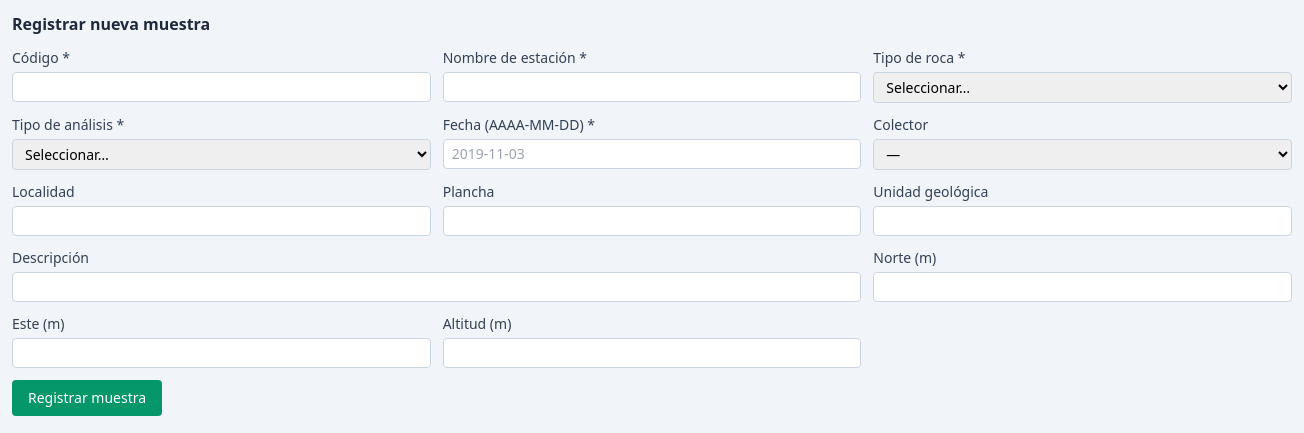
Test: RegistrationForm › submits the payload and reports success
Type "ZZX9999" into the field labelled "Código *". click: (221, 87)
box: x1=12 y1=72 x2=431 y2=102
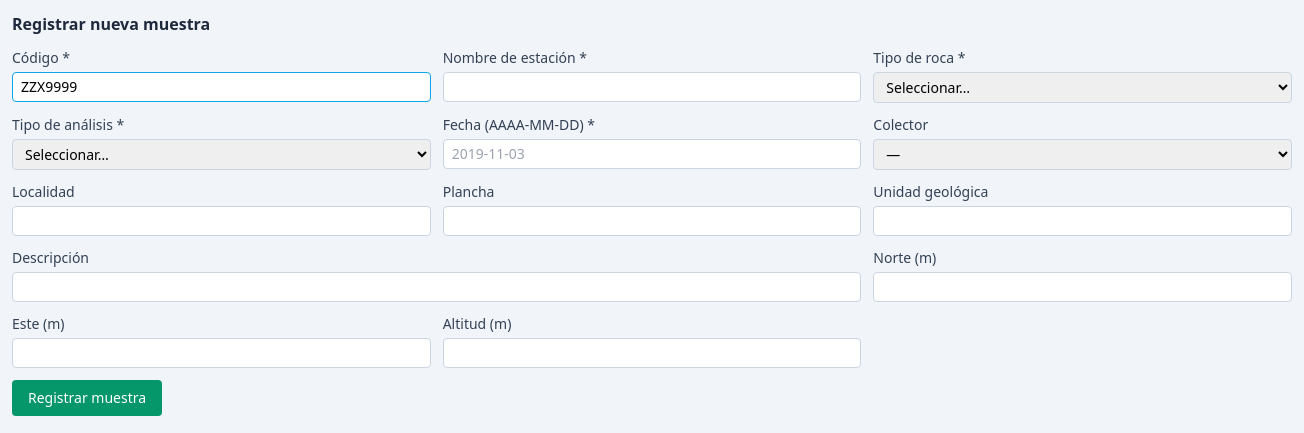
Type "Estacion Nueva" into the field labelled "Nombre de estación *". click: (652, 87)
box: x1=443 y1=72 x2=861 y2=102
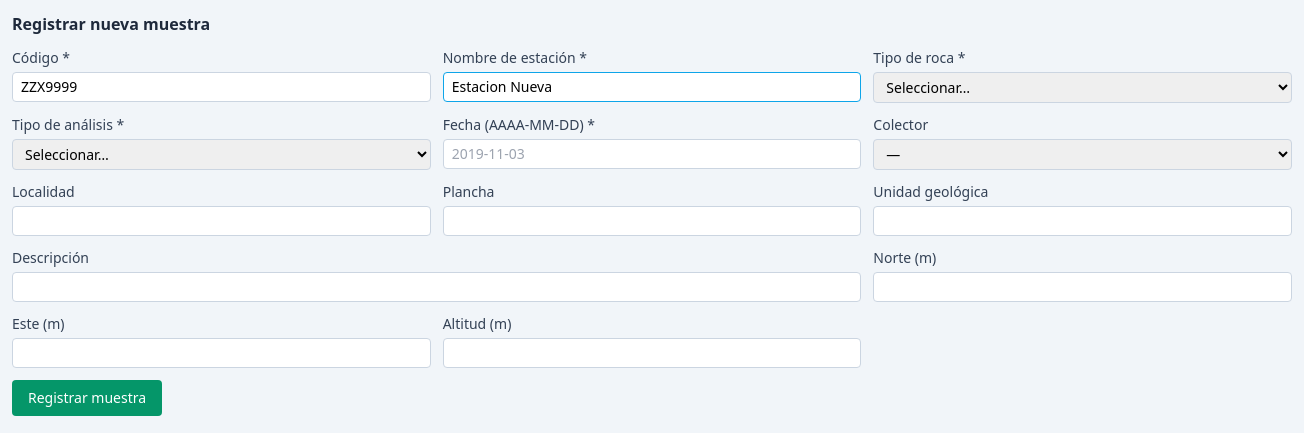
Select "Granito" in the dropdown labelled "Tipo de roca *". click: (1083, 88)
box: x1=873 y1=72 x2=1292 y2=103
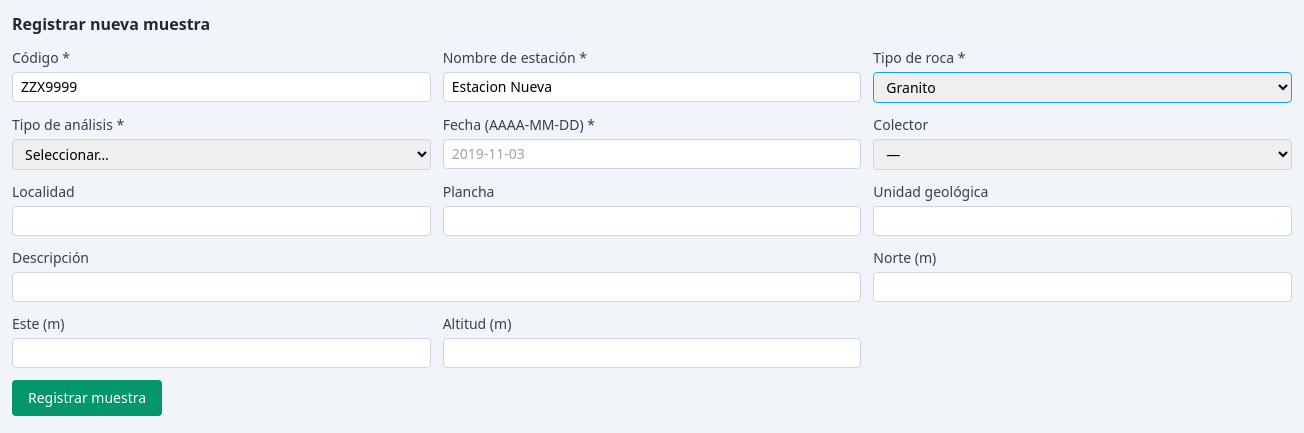
Select "Seccion Delgada" in the dropdown labelled "Tipo de análisis *". click: (221, 154)
box: x1=12 y1=139 x2=431 y2=170
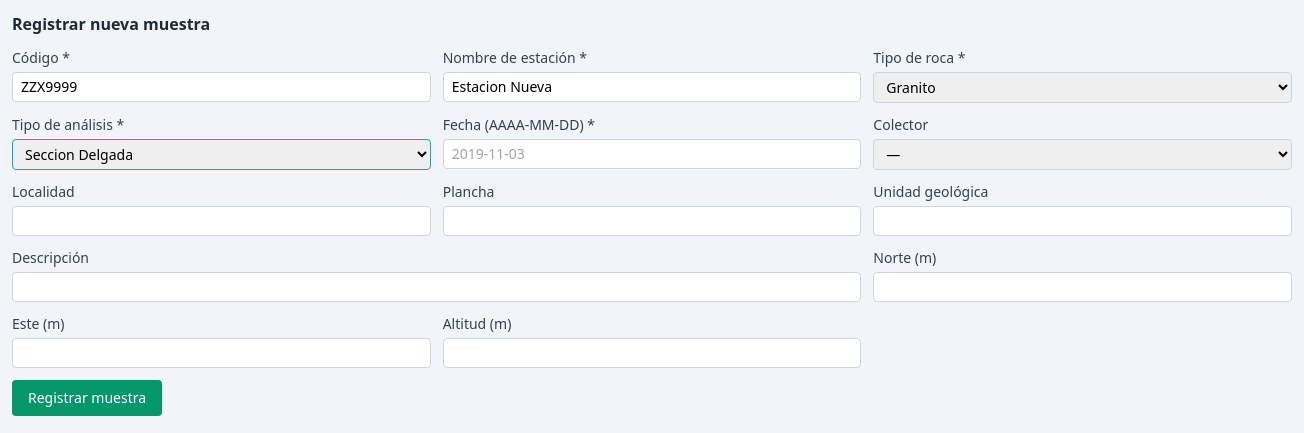
Type "2024-05-01" into the field labelled "Fecha (AAAA-MM-DD) *". click: (652, 154)
box: x1=443 y1=139 x2=861 y2=169
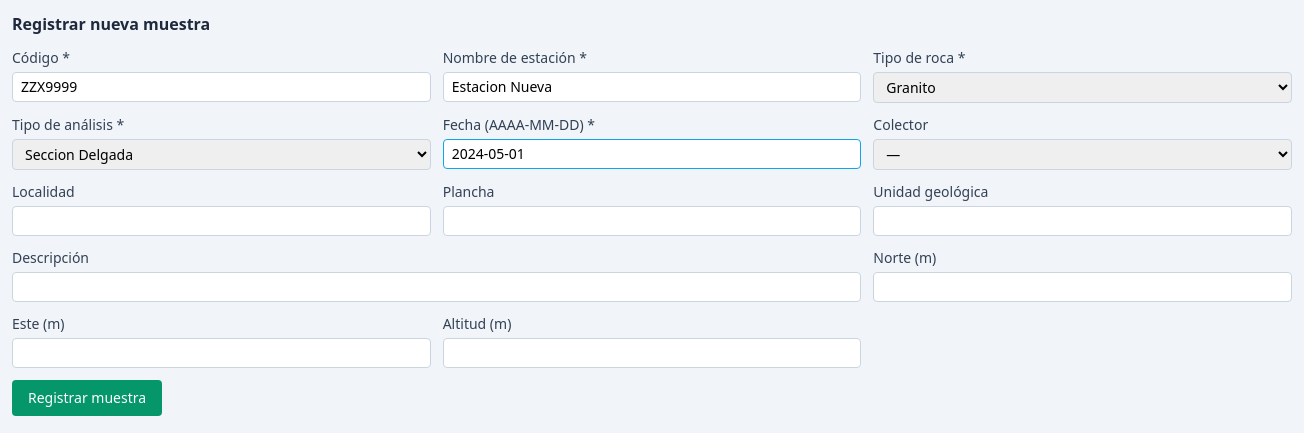
Click the button "Registrar muestra". click: (87, 398)
box: x1=12 y1=380 x2=162 y2=416
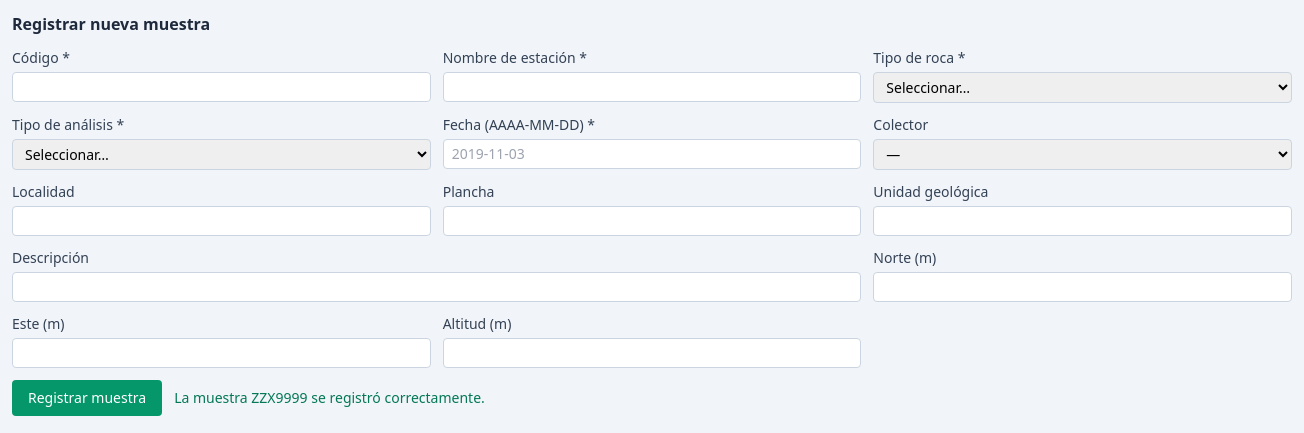
Expected: the text with test id "reg-success" shows "se registró correctamente", x1=174 y1=388 x2=485 y2=407
